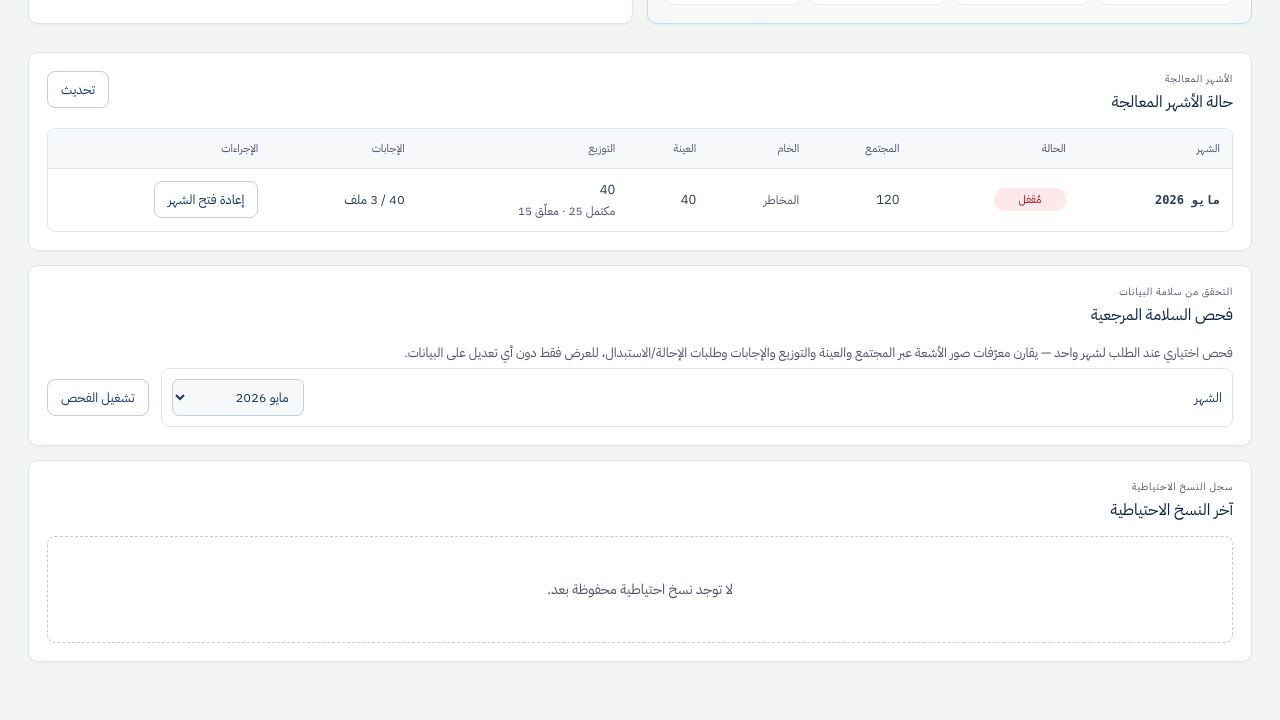
Test: Archive dialog error paths (item 1) › MonthLockDialog (reopen) stays open and shows the failure message inside the modal when reopenMonth fails
The image size is (1280, 720).
(page scrolled)
Click the button "إعادة فتح الشهر" at (206, 200), box [154,181,258,218]
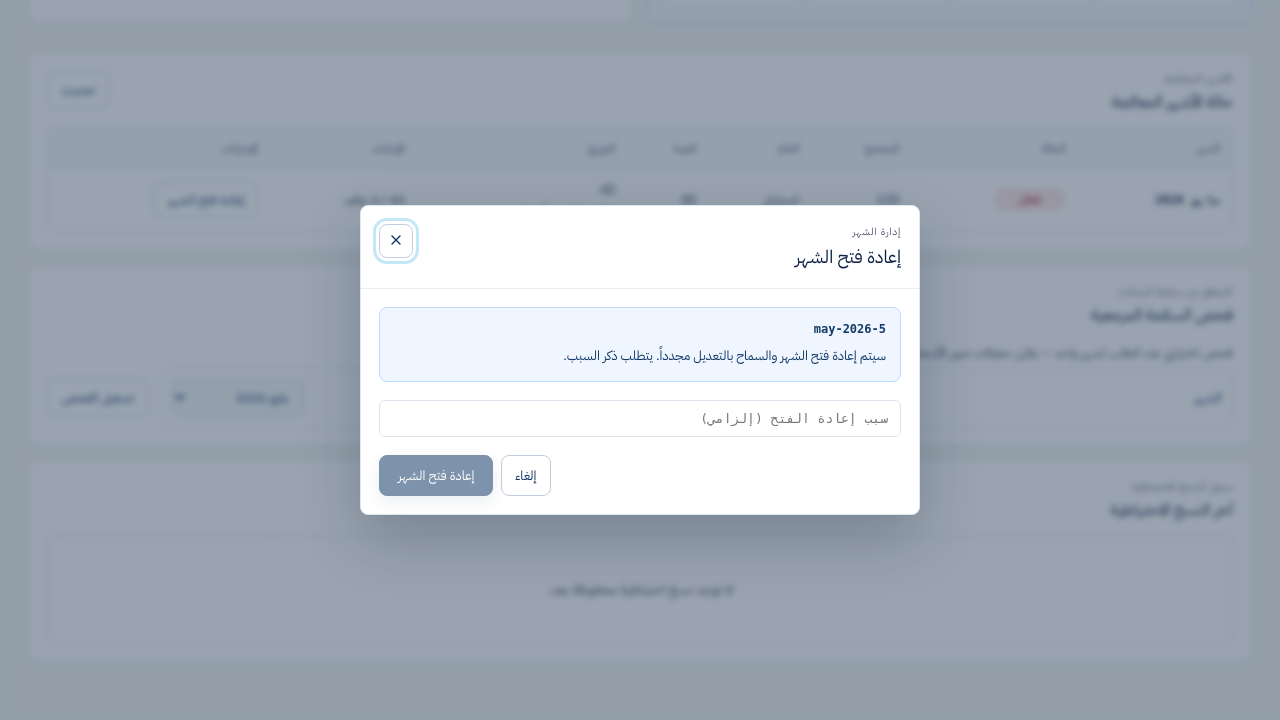
Type "سبب تجريبي لإعادة الفتح" into the field with placeholder "سبب إعادة الفتح (إلزامي)" at (640, 419), box [379,400,901,437]
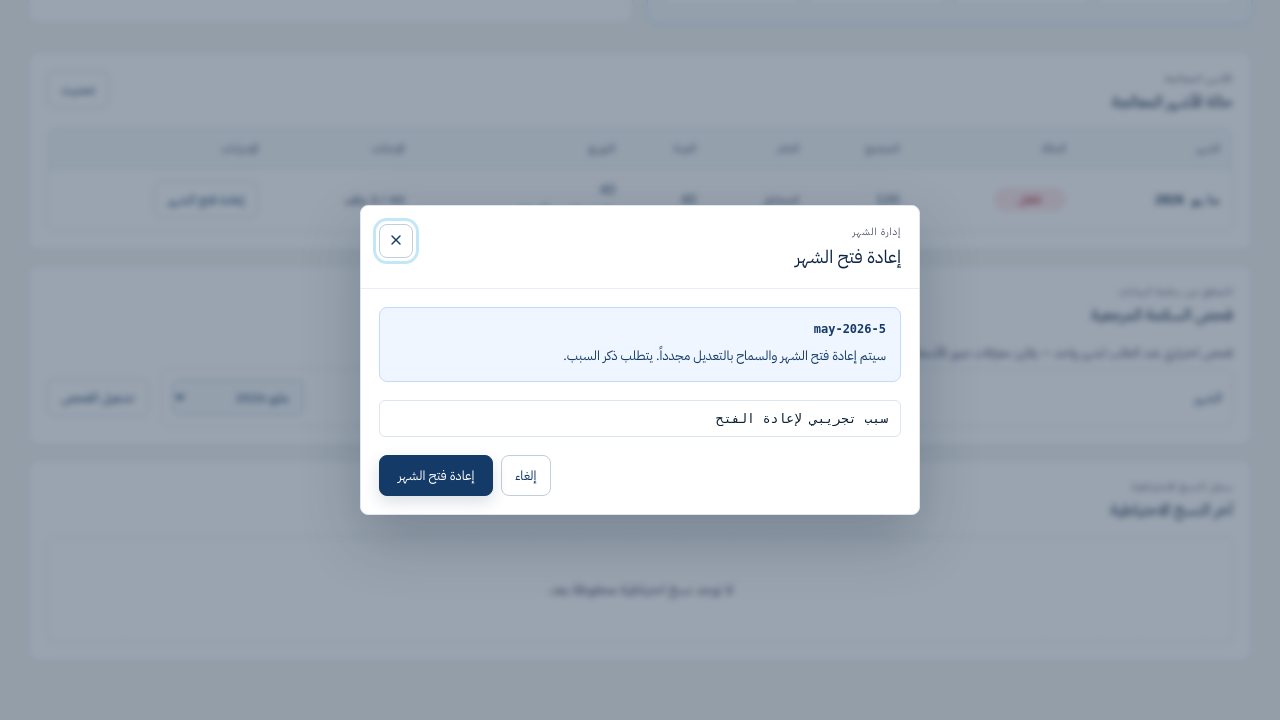
Click the button "إعادة فتح الشهر" at (436, 476), box [379,455,493,496]
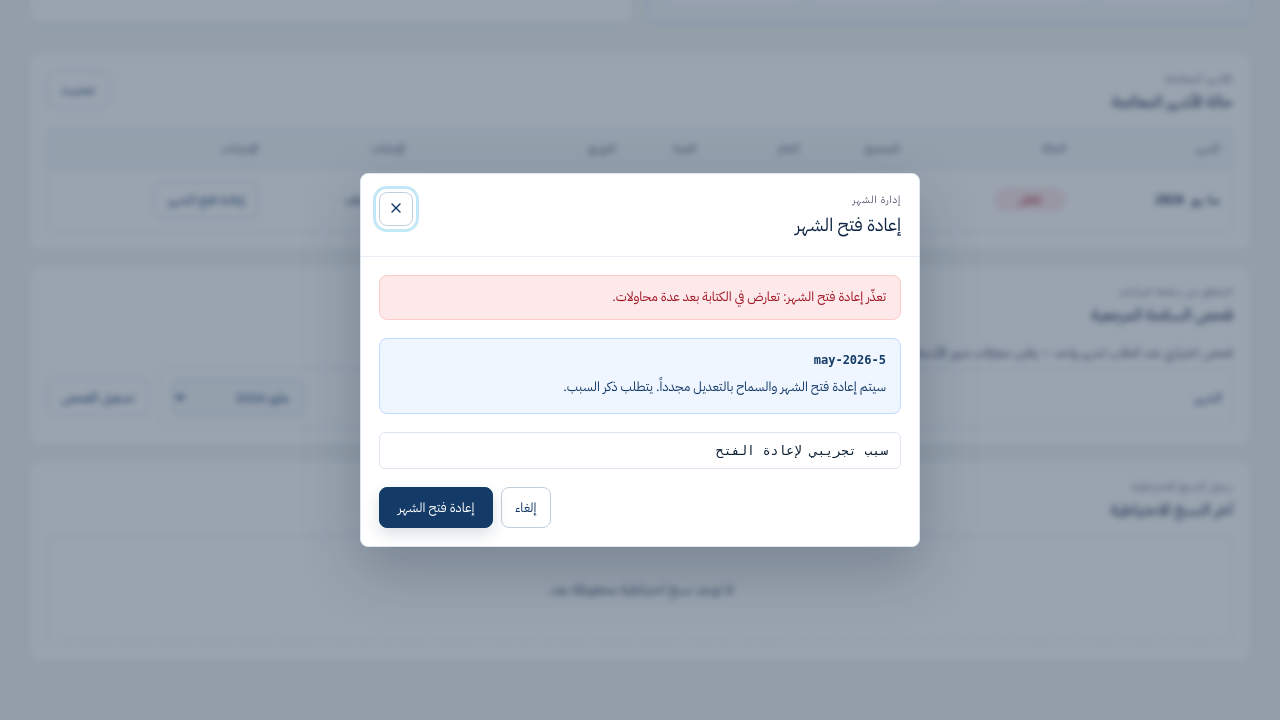
Check: the dialog is shown
Check: the message reads "تعذّر إعادة فتح الشهر: تعارض في الكتابة بعد عدة محاولات.", box [612,287,886,306]
